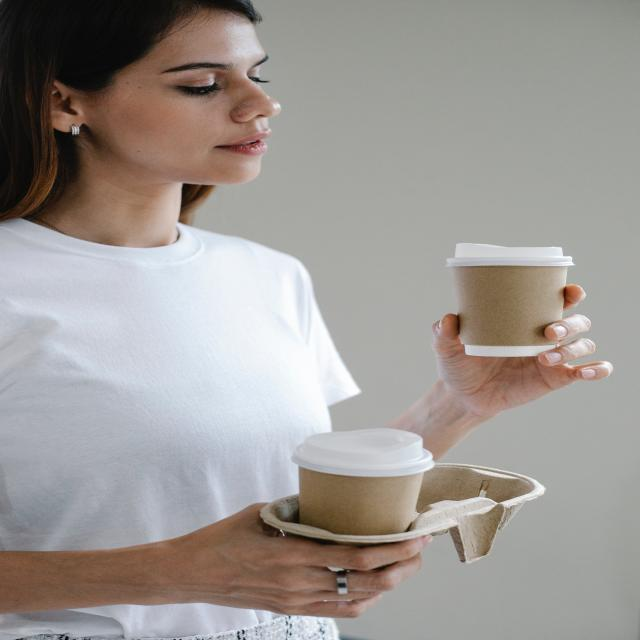cup: (438, 239, 577, 362), (286, 426, 436, 537)
